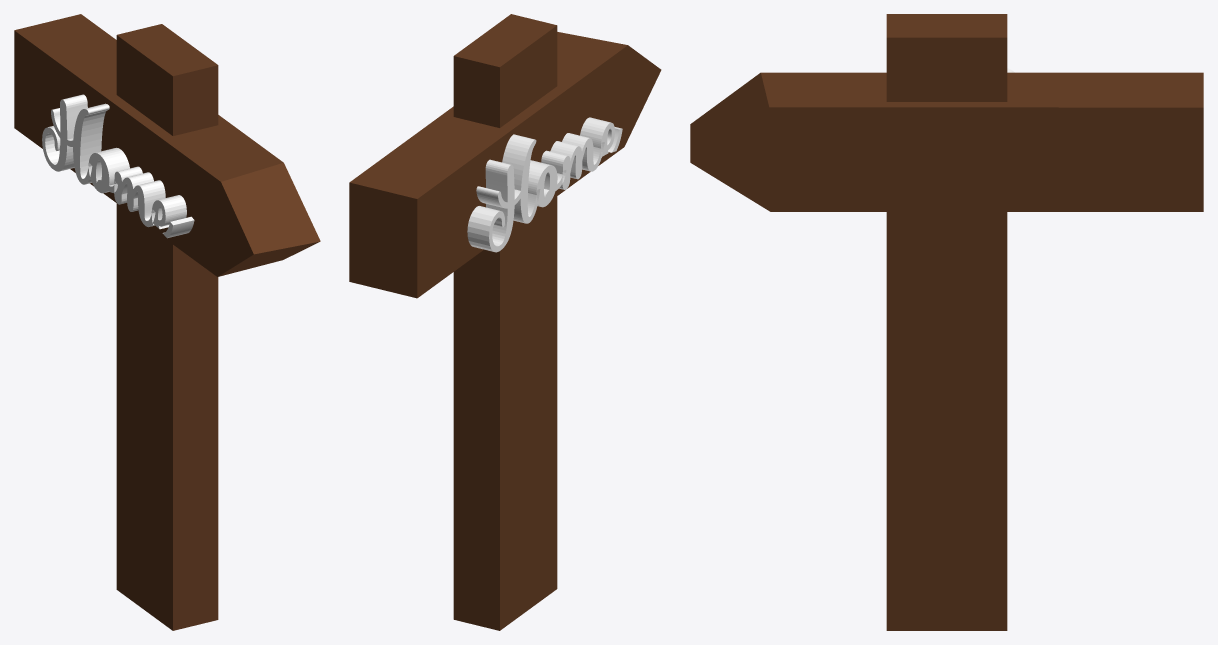
The model's file is back_Pfeil.glb.
3 views of the same model, side by side, from view 1: azimuth 30°, elevation 25°; view 2: azimuth 150°, elevation 25°; view 3: azimuth 270°, elevation 25° (orthographic). The views are drawn at different scales.
Parts seen in each view (by area): view 1: Curve002; view 2: Curve002; view 3: Curve002.
Boxes of the visible parts, <box> form: Curve002: <box>14,14,320,630</box>; Curve002: <box>349,14,661,630</box>; Curve002: <box>690,14,1203,630</box>.
Bounding box in the file's own units: 0.4253 × 2.55 × 2.
